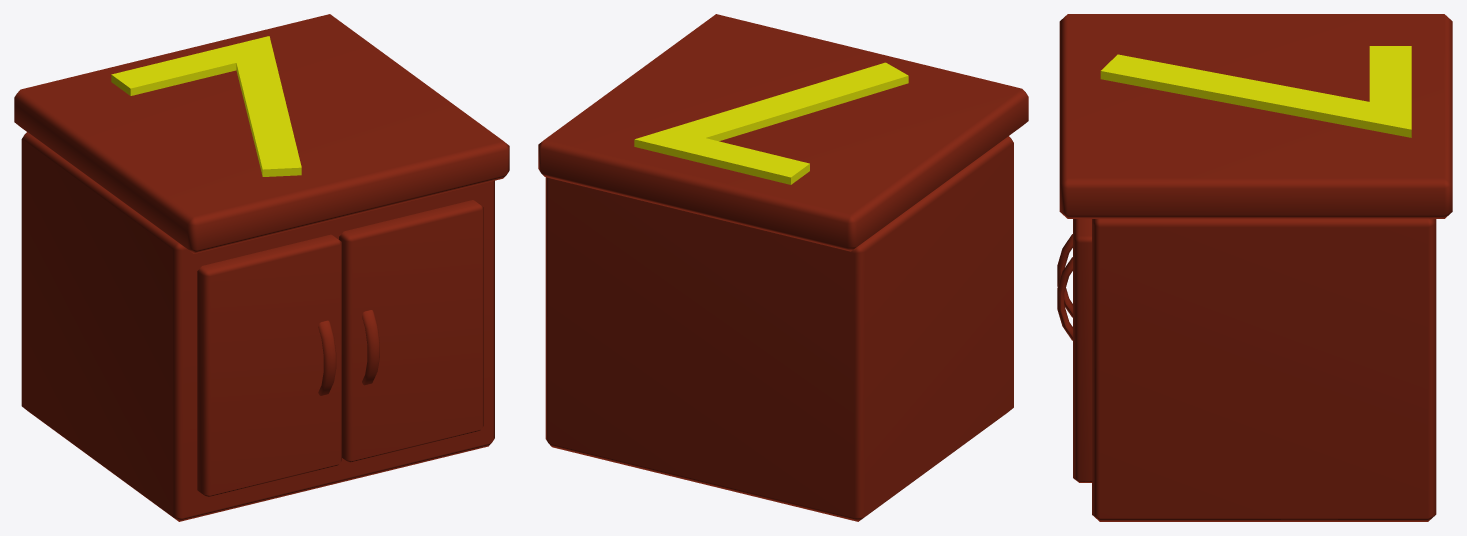
The picture shows the model from 3 angles, left to right: view 1: azimuth 30°, elevation 25°; view 2: azimuth 150°, elevation 25°; view 3: azimuth 270°, elevation 25°; orthographic projection. The views are drawn at different scales.
Visible parts, largest first — view 1: Cube.009, Text.006; view 2: Cube.009, Text.006; view 3: Cube.009, Text.006.
Part boxes in pixels (bbox=[...]): Cube.009: bbox=[14, 14, 509, 521]; Text.006: bbox=[111, 36, 301, 176]; Cube.009: bbox=[538, 14, 1028, 521]; Text.006: bbox=[634, 62, 908, 184]; Cube.009: bbox=[1057, 14, 1452, 521]; Text.006: bbox=[1100, 46, 1411, 137].
Bounding box in the file's own units: 89.87 × 86.34 × 87.83.
